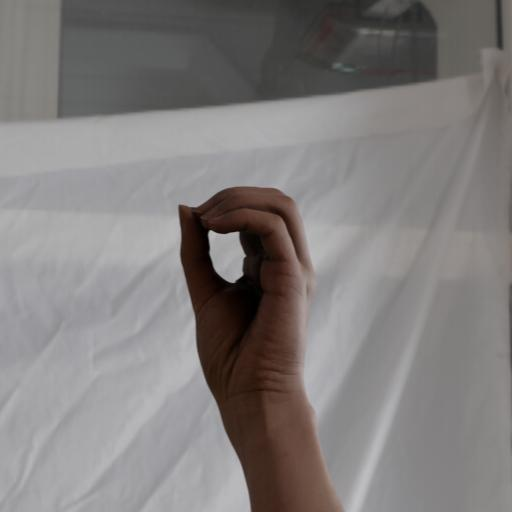O: (168, 179, 328, 512)
